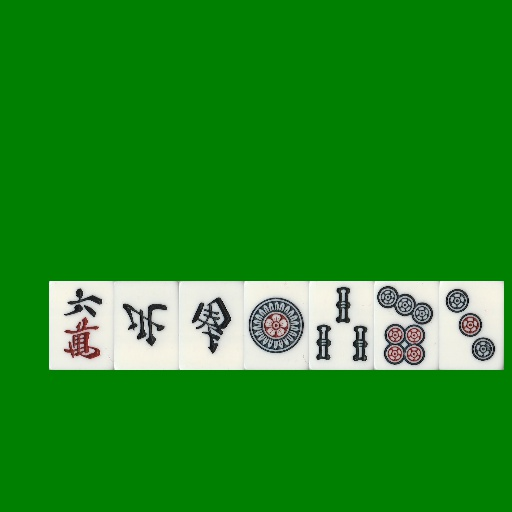1p: (244, 281, 309, 370)
3p: (439, 281, 504, 370)
3s: (309, 281, 374, 370)
6m: (49, 281, 114, 370)
7p: (374, 281, 439, 370)
north: (114, 281, 179, 370)
south: (179, 281, 244, 370)
